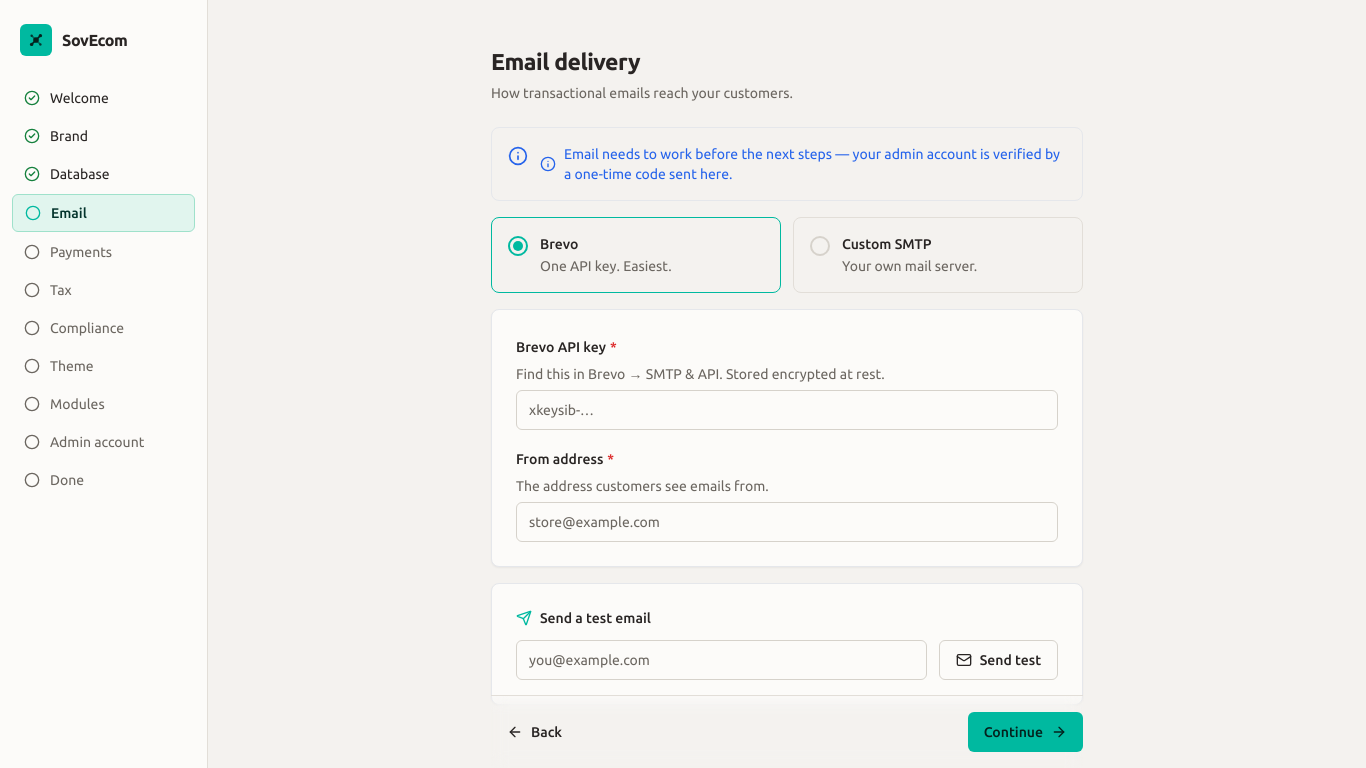
EmailStep › send-test requires a recipient address inline
Expected: the heading "Email delivery" is shown, x1=491 y1=49 x2=640 y2=74
Click the button "Send test" at (998, 660), box x1=939 y1=640 x2=1058 y2=680
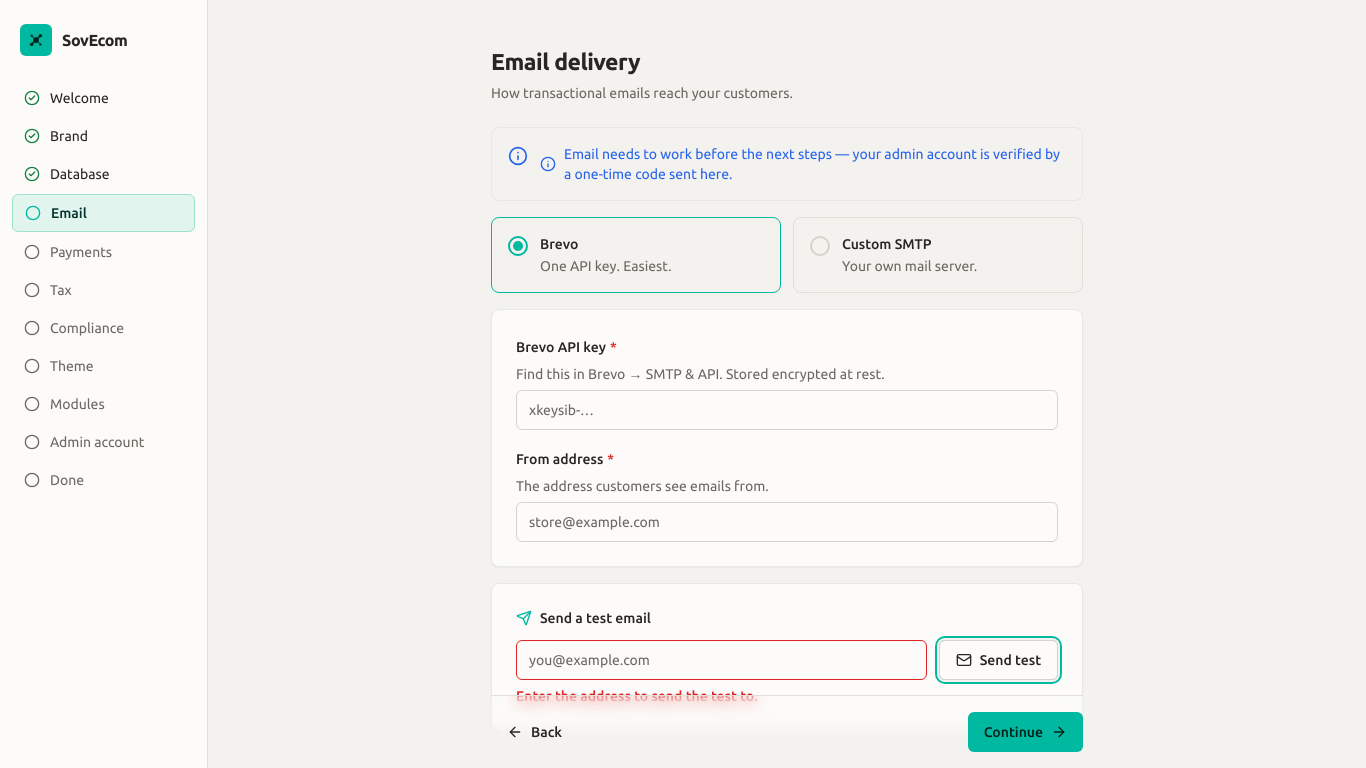
Expected: the text "Enter the address to send the test to." is shown, x1=516 y1=688 x2=758 y2=704
